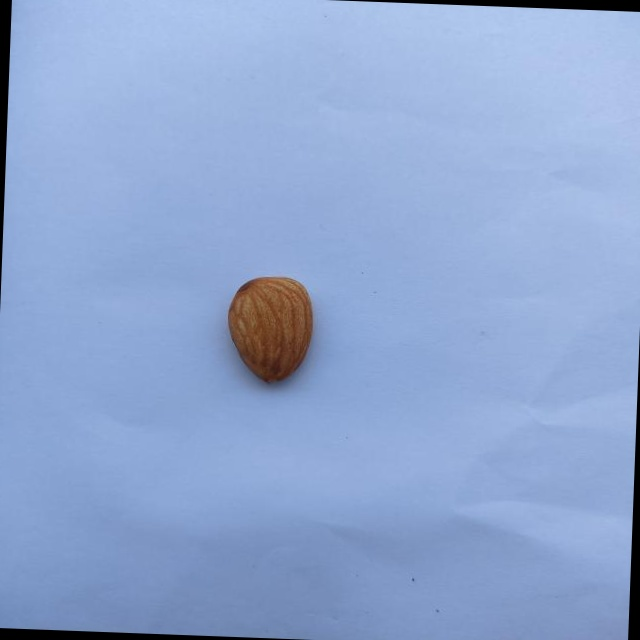grade1: (219, 268, 325, 393)
